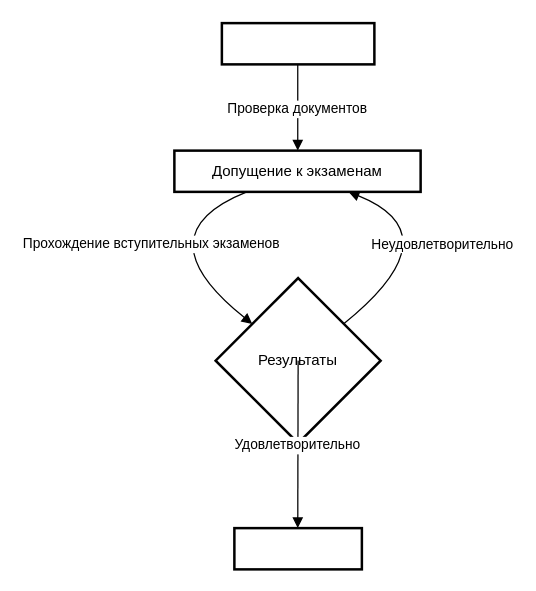
Some shapes in this 536 by 591 pixel diagram are drawn without their labels. Here are the shapes that lost their labels. From the top down, the box of each, then its label:
(220, 21, 375, 65): Подача заявки
(232, 526, 362, 570): Зачисление
